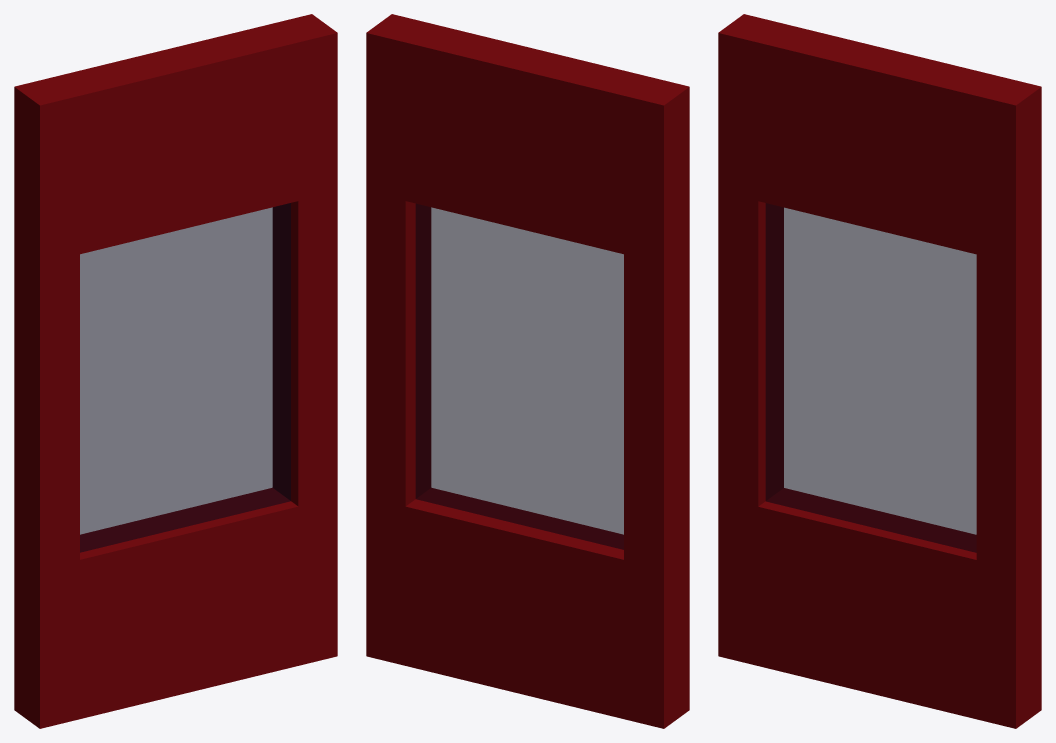
File: RedWindow.glb
3 renders of one model, left to right at view 1: azimuth 30°, elevation 25°; view 2: azimuth 150°, elevation 25°; view 3: azimuth 330°, elevation 25°, orthographic.
Parts seen in each view (by area): view 1: wall_red_window; view 2: wall_red_window; view 3: wall_red_window.
Boxes of the visible parts, x1,y1,x2,y2 form: wall_red_window: (14,14,337,728); wall_red_window: (366,14,689,728); wall_red_window: (718,14,1041,728).
Size of what is drawn, in the model's own units: 2 by 4 by 0.3.
2 materials, 2 textured.
